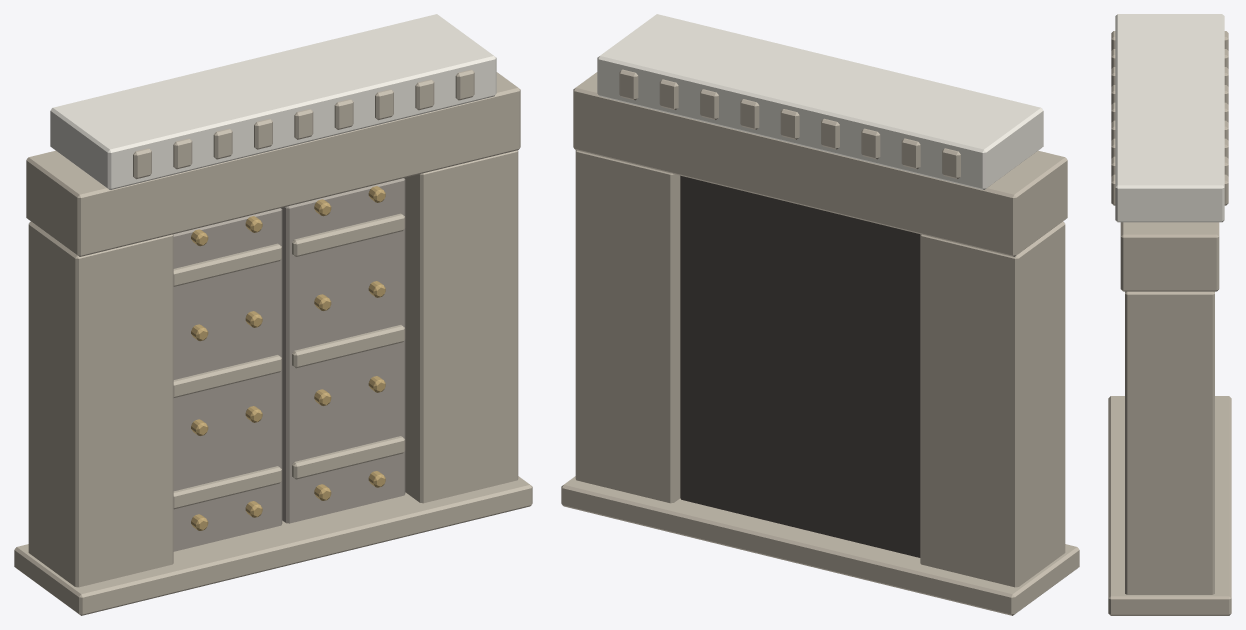
Rendered from TC_ENV_CarvedDoorway_V1.glb.
3 renders of one model, left to right at view 1: azimuth 30°, elevation 25°; view 2: azimuth 150°, elevation 25°; view 3: azimuth 270°, elevation 25°, orthographic. The views are drawn at different scales.
Visible parts, largest first — view 1: TC_ENV_CarvedDoorway_V1; view 2: TC_ENV_CarvedDoorway_V1; view 3: TC_ENV_CarvedDoorway_V1.
Boxes of the visible parts, <box> form: TC_ENV_CarvedDoorway_V1: <box>14,14,532,615</box>; TC_ENV_CarvedDoorway_V1: <box>561,14,1079,615</box>; TC_ENV_CarvedDoorway_V1: <box>1108,14,1231,615</box>.
Bounding box in the file's own units: 3.5 × 3.36 × 0.9.
